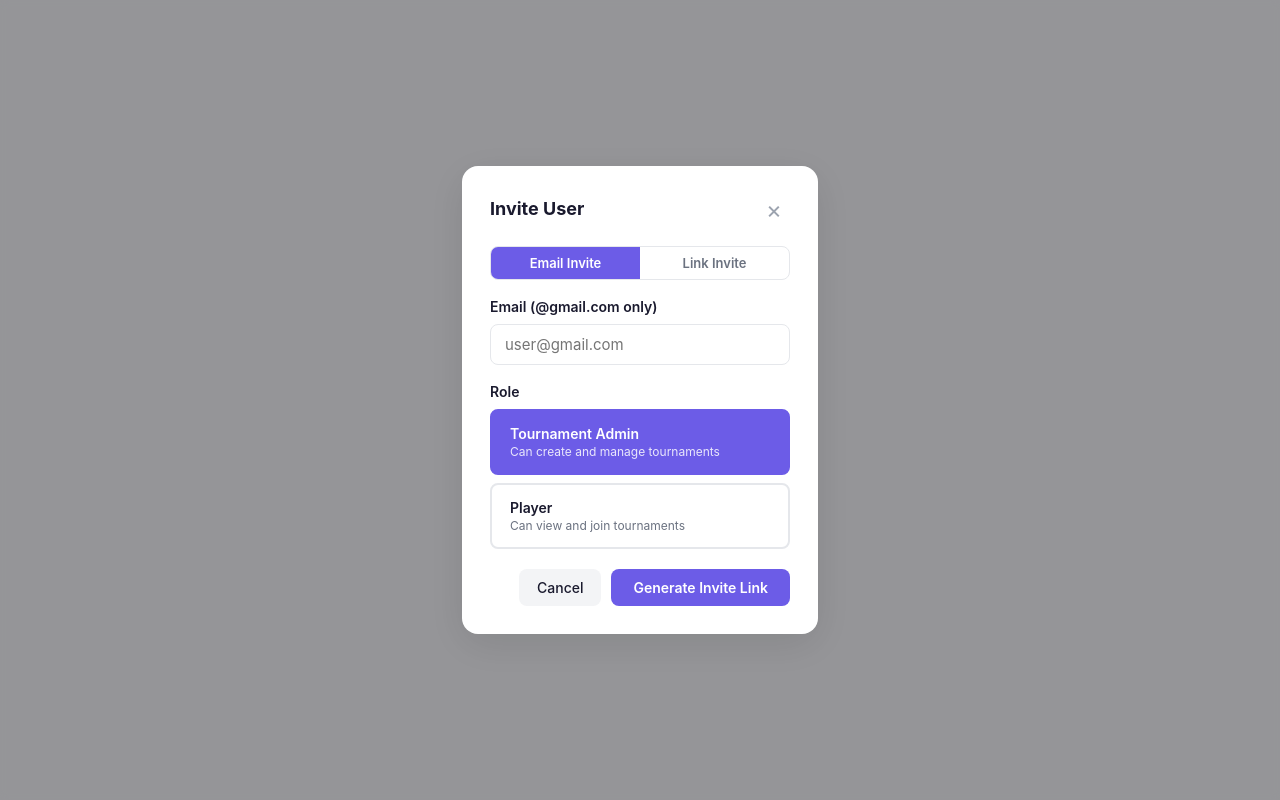
Test: InviteModal › super admin user › rejects non-gmail emails
The width and height of the screenshot is (1280, 800).
Type "test@outlook.com" into the field with placeholder "user@gmail.com" at x=640, y=344, box left=490, top=324, right=790, bottom=365
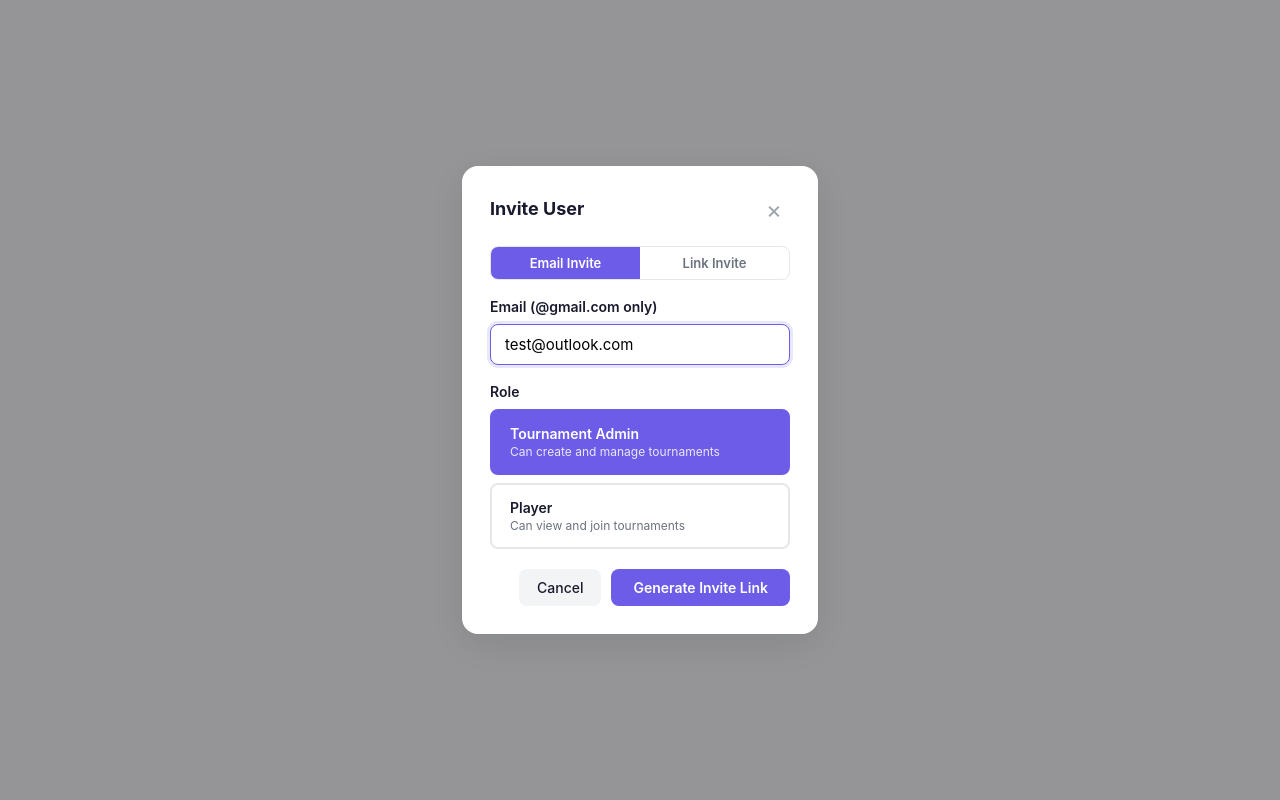
Click the button "Generate Invite Link" at x=701, y=588, box left=612, top=569, right=790, bottom=606
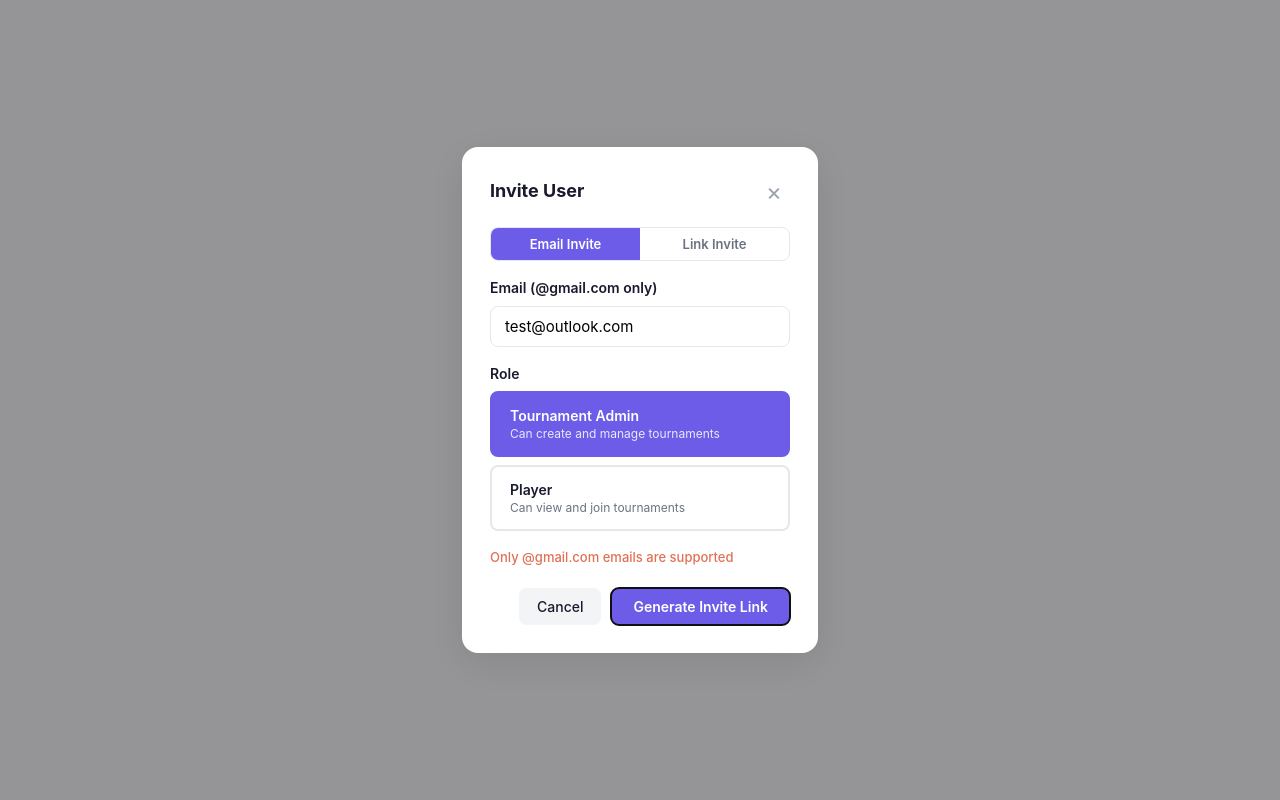
Result: the text "Only @gmail.com emails are supported" is shown at left=490, top=549, right=734, bottom=565
